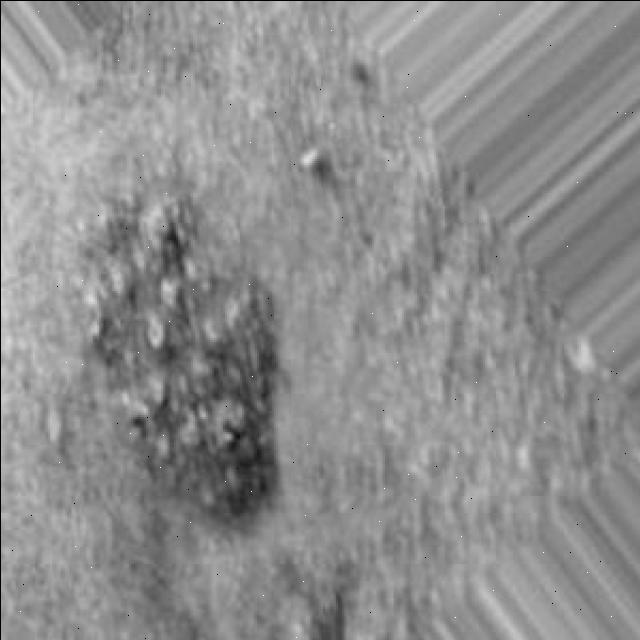Shingles: (72, 185, 298, 523)
